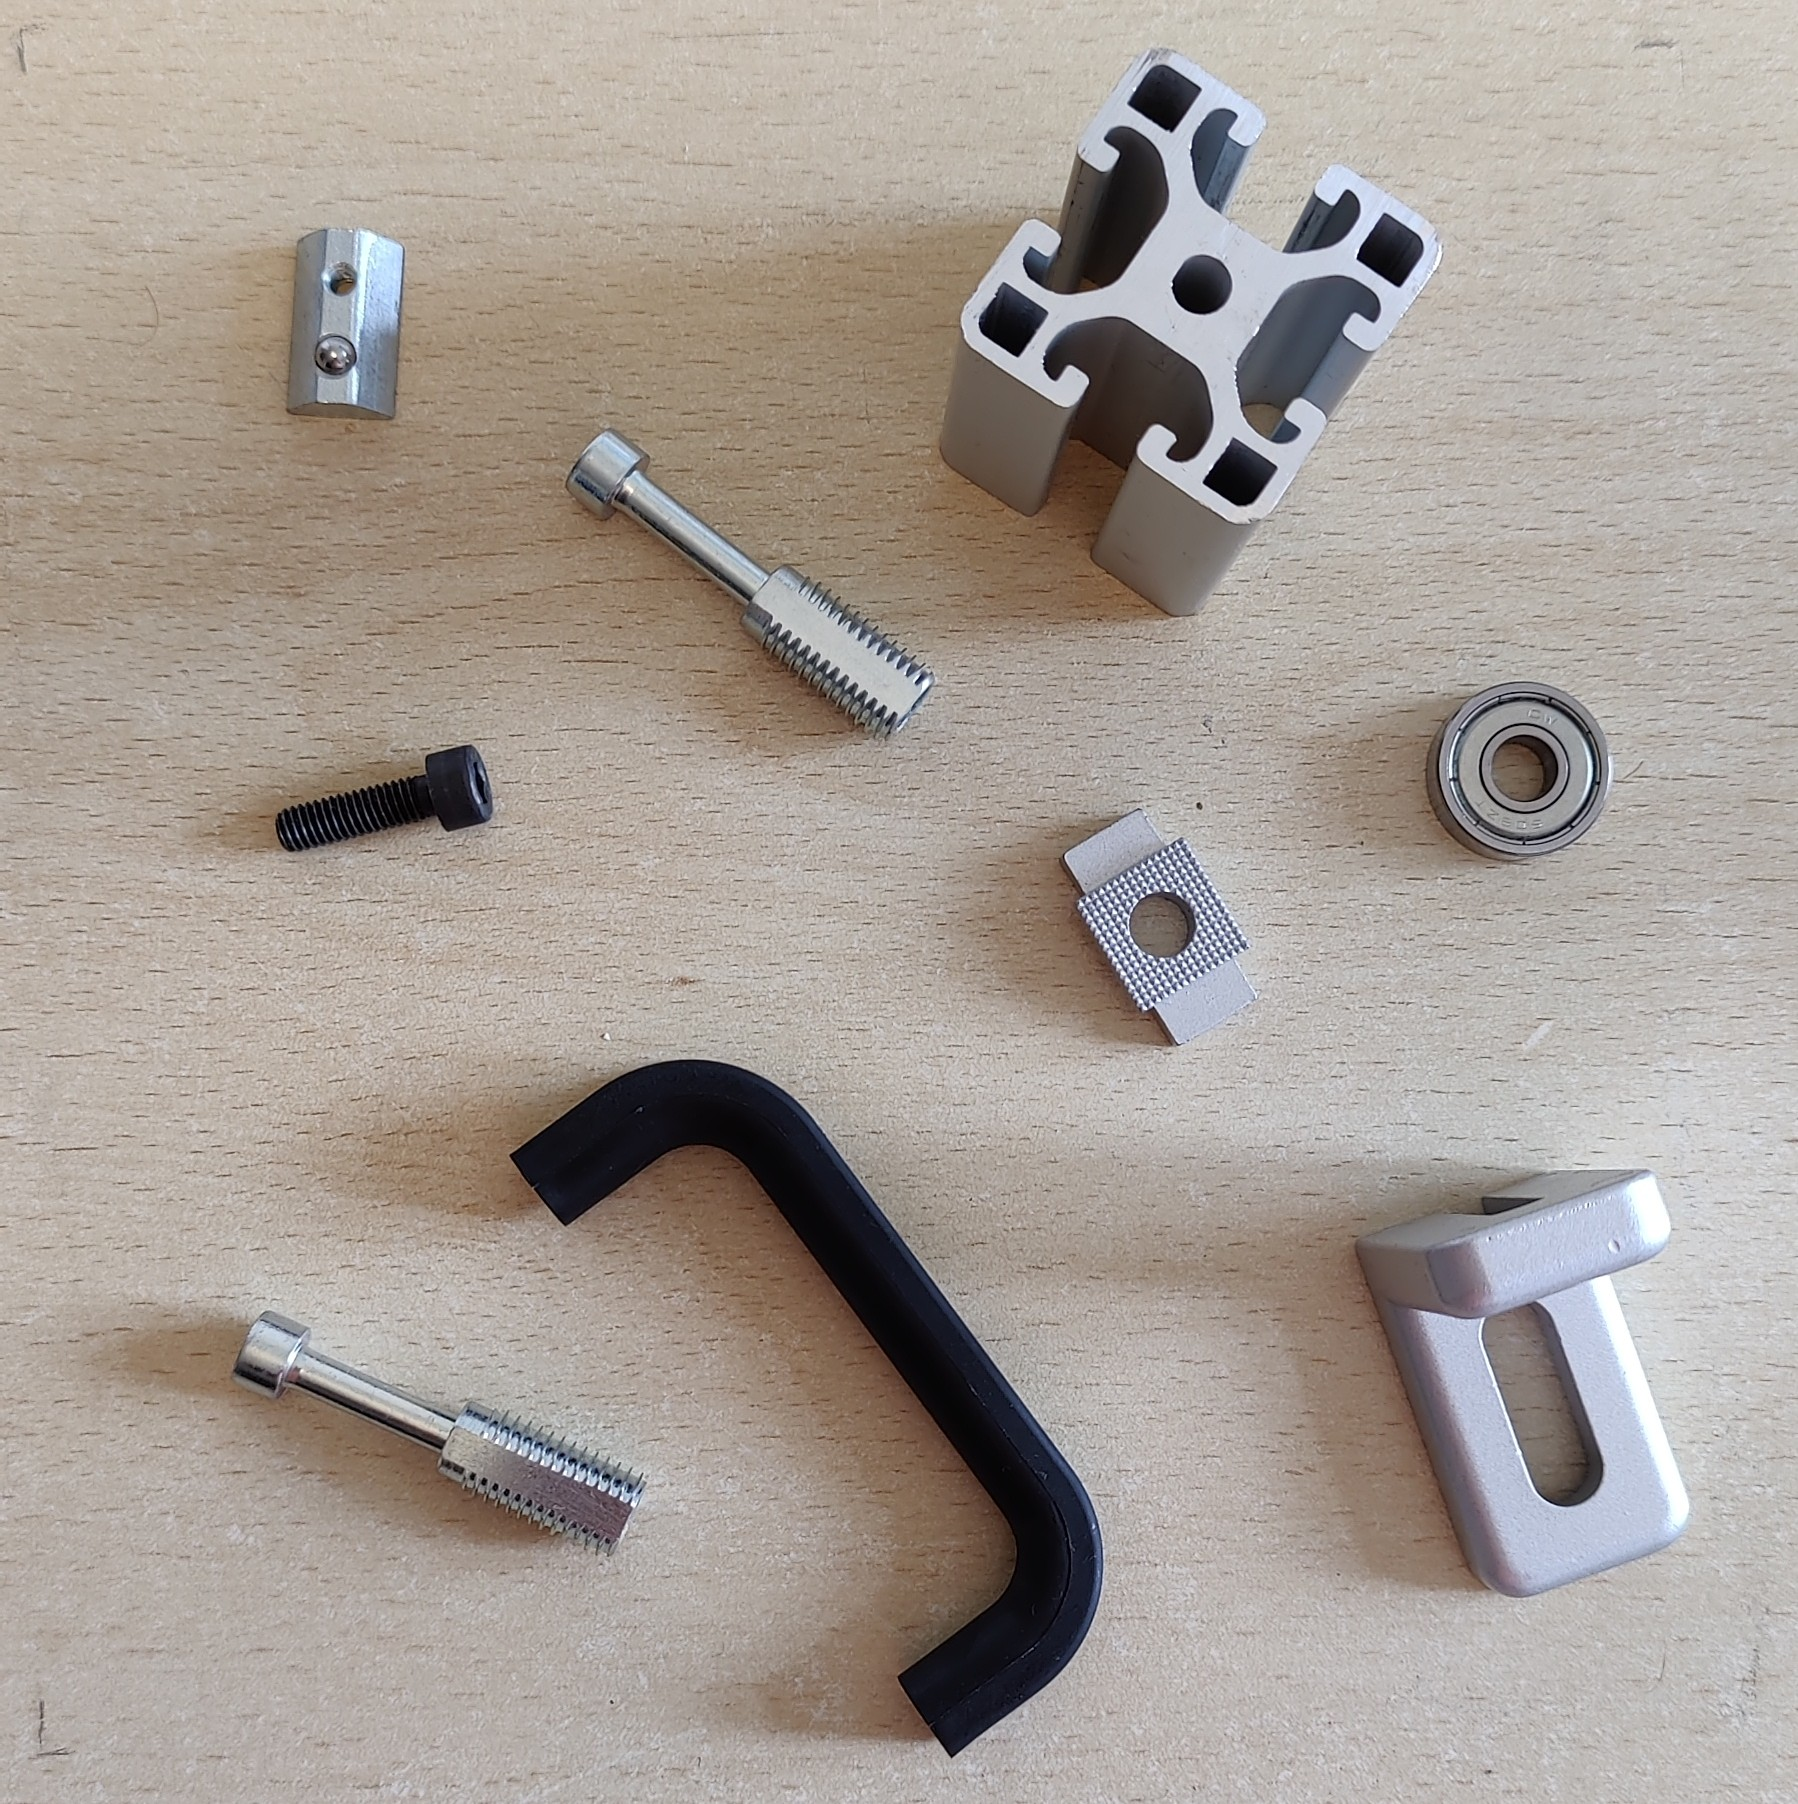Aluminium Extension: (932, 44, 1446, 619)
Ball Bearing: (1423, 680, 1614, 862)
Multiwinkel: (1352, 1169, 1693, 1600)
Pull Handle: (507, 1057, 1106, 1761)
Shoulder Socket Head Cap Screw: (561, 423, 937, 744), (227, 1309, 649, 1559)
Socket Head Cap Screw: (273, 737, 497, 856)
T Nut Square: (1055, 803, 1261, 1048)
T Spring Nut: (283, 225, 407, 423)
